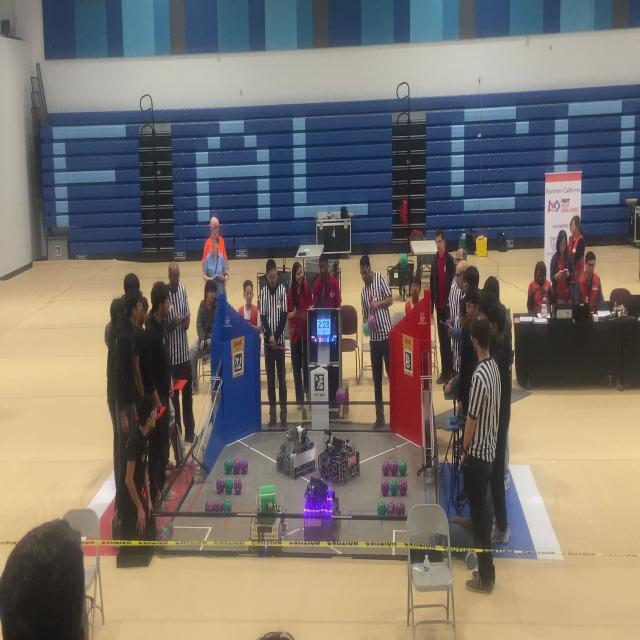artifact_green: (368, 311, 376, 332), (216, 478, 225, 494), (399, 254, 408, 269), (390, 480, 398, 496), (362, 320, 370, 336), (222, 499, 231, 513), (225, 479, 233, 494), (378, 501, 386, 516), (399, 461, 407, 476), (166, 521, 173, 538), (162, 526, 170, 540), (157, 530, 167, 541), (213, 500, 222, 512), (387, 502, 395, 515), (225, 460, 232, 474)
artifact_purple: (335, 388, 345, 407), (368, 313, 376, 332), (216, 478, 225, 494), (399, 480, 407, 496), (396, 502, 405, 516), (382, 461, 390, 476), (381, 481, 389, 496), (224, 459, 232, 474), (234, 479, 242, 494), (387, 502, 396, 515), (390, 461, 398, 475), (233, 459, 240, 474), (241, 459, 248, 474), (157, 530, 166, 541), (213, 501, 222, 512), (166, 522, 173, 536), (162, 526, 169, 539), (206, 500, 213, 512)
